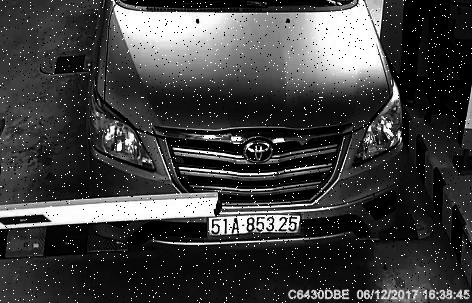License-plate: (206, 210, 307, 244)
